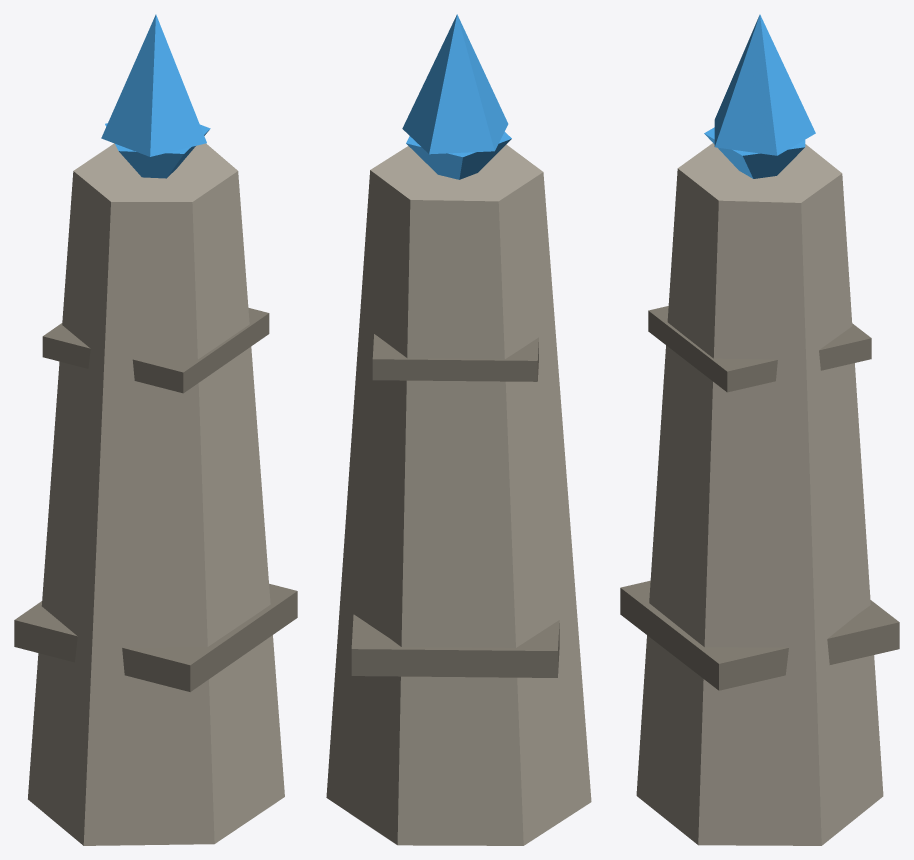
File: shrine_stone_water.glb
3 views of the same model, side by side, from view 1: azimuth 30°, elevation 25°; view 2: azimuth 150°, elevation 25°; view 3: azimuth 270°, elevation 25° (orthographic).
Parts seen in each view (by area): view 1: Stone; view 2: Stone; view 3: Stone.
Part boxes in pixels (x1,y1,x2,y2): Stone: (14,14,297,845); Stone: (326,14,591,845); Stone: (620,14,899,845).
Bounding box in the file's own units: 1.7 × 5.25 × 1.7.
